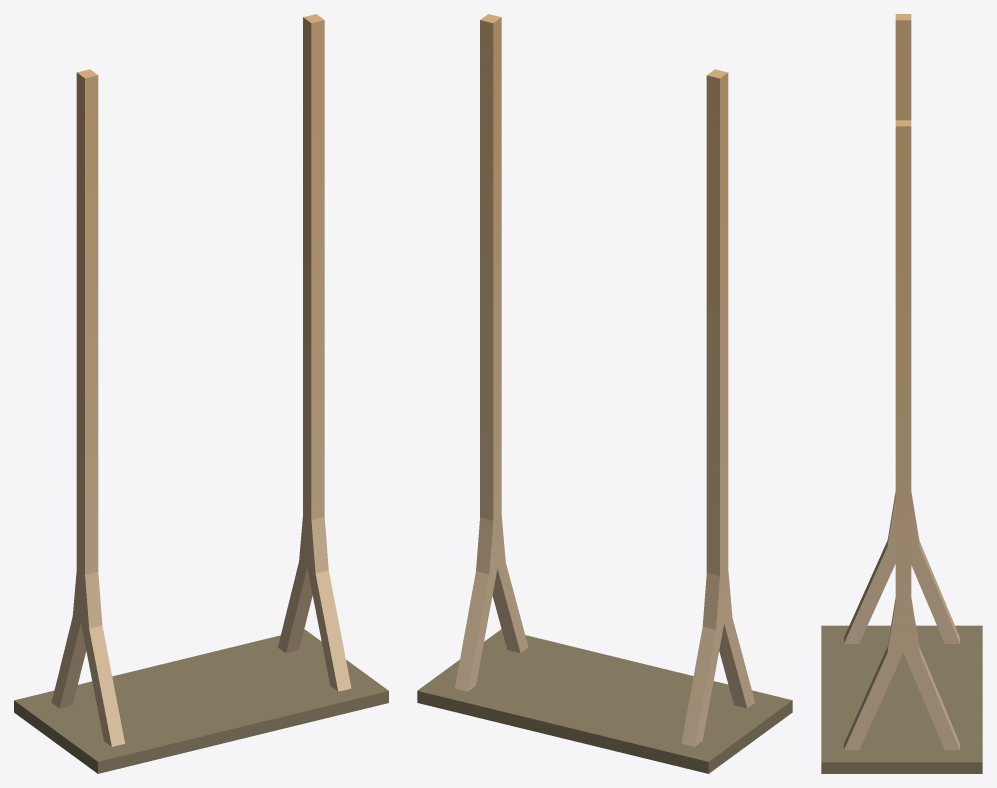
The model's file is swing.fbx.
3 renders of one model, left to right at view 1: azimuth 30°, elevation 25°; view 2: azimuth 150°, elevation 25°; view 3: azimuth 270°, elevation 25°, orthographic. The views are drawn at different scales.
Visible parts, largest first — view 1: Swing; view 2: Swing; view 3: Swing.
Part boxes in pixels (x1,y1,x2,y2): Swing: (14,14,388,773); Swing: (417,14,792,773); Swing: (821,14,982,773).
Bounding box in the file's own units: 91.44 × 45.72 × 198.
